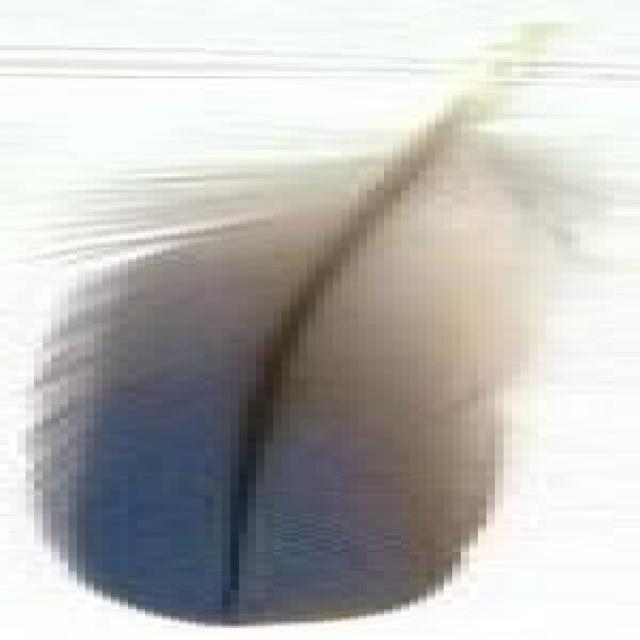feather: (34, 21, 640, 628)
